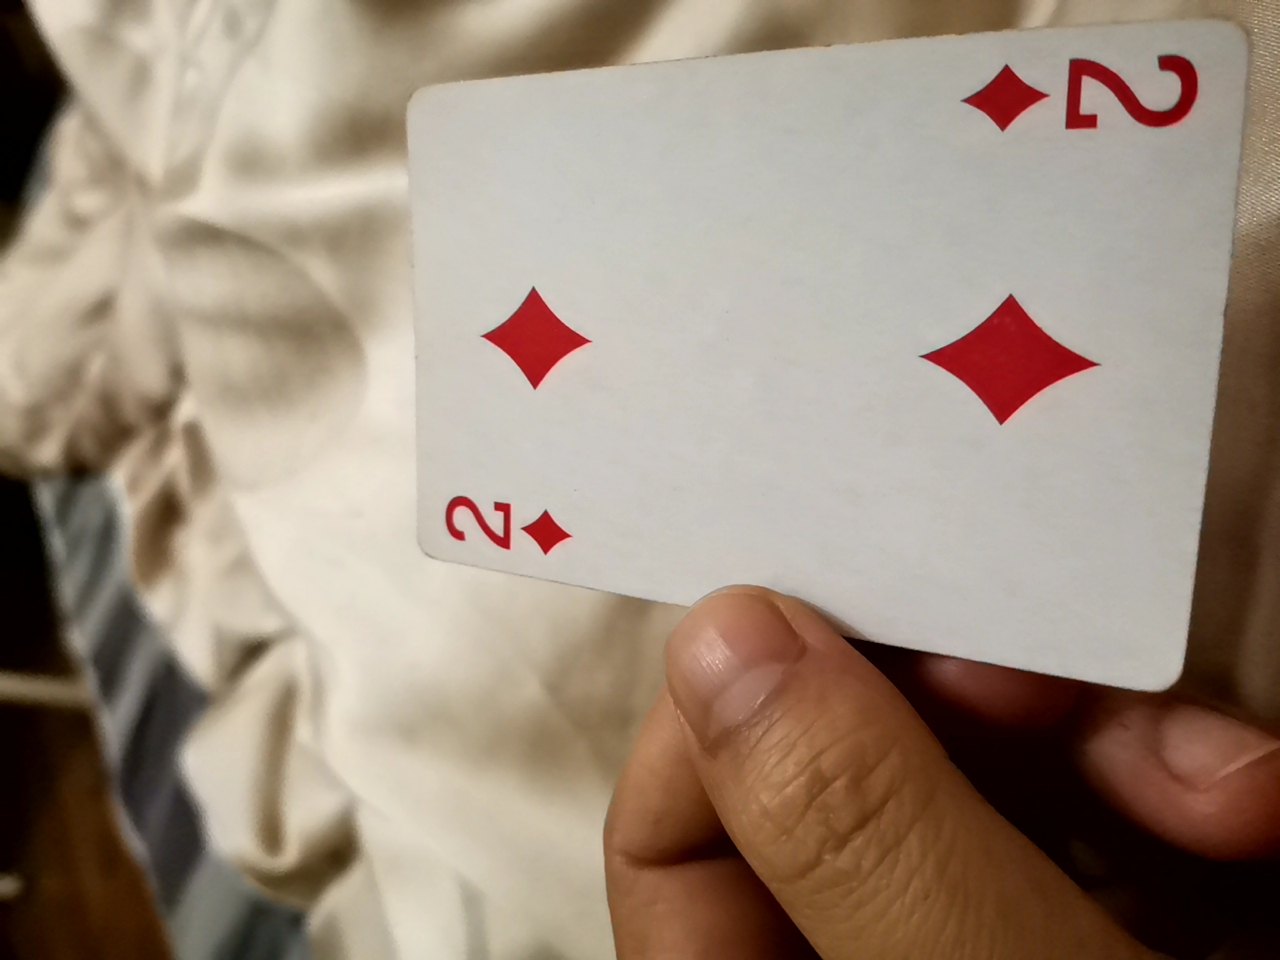fk 2: (364, 13, 1260, 715)
